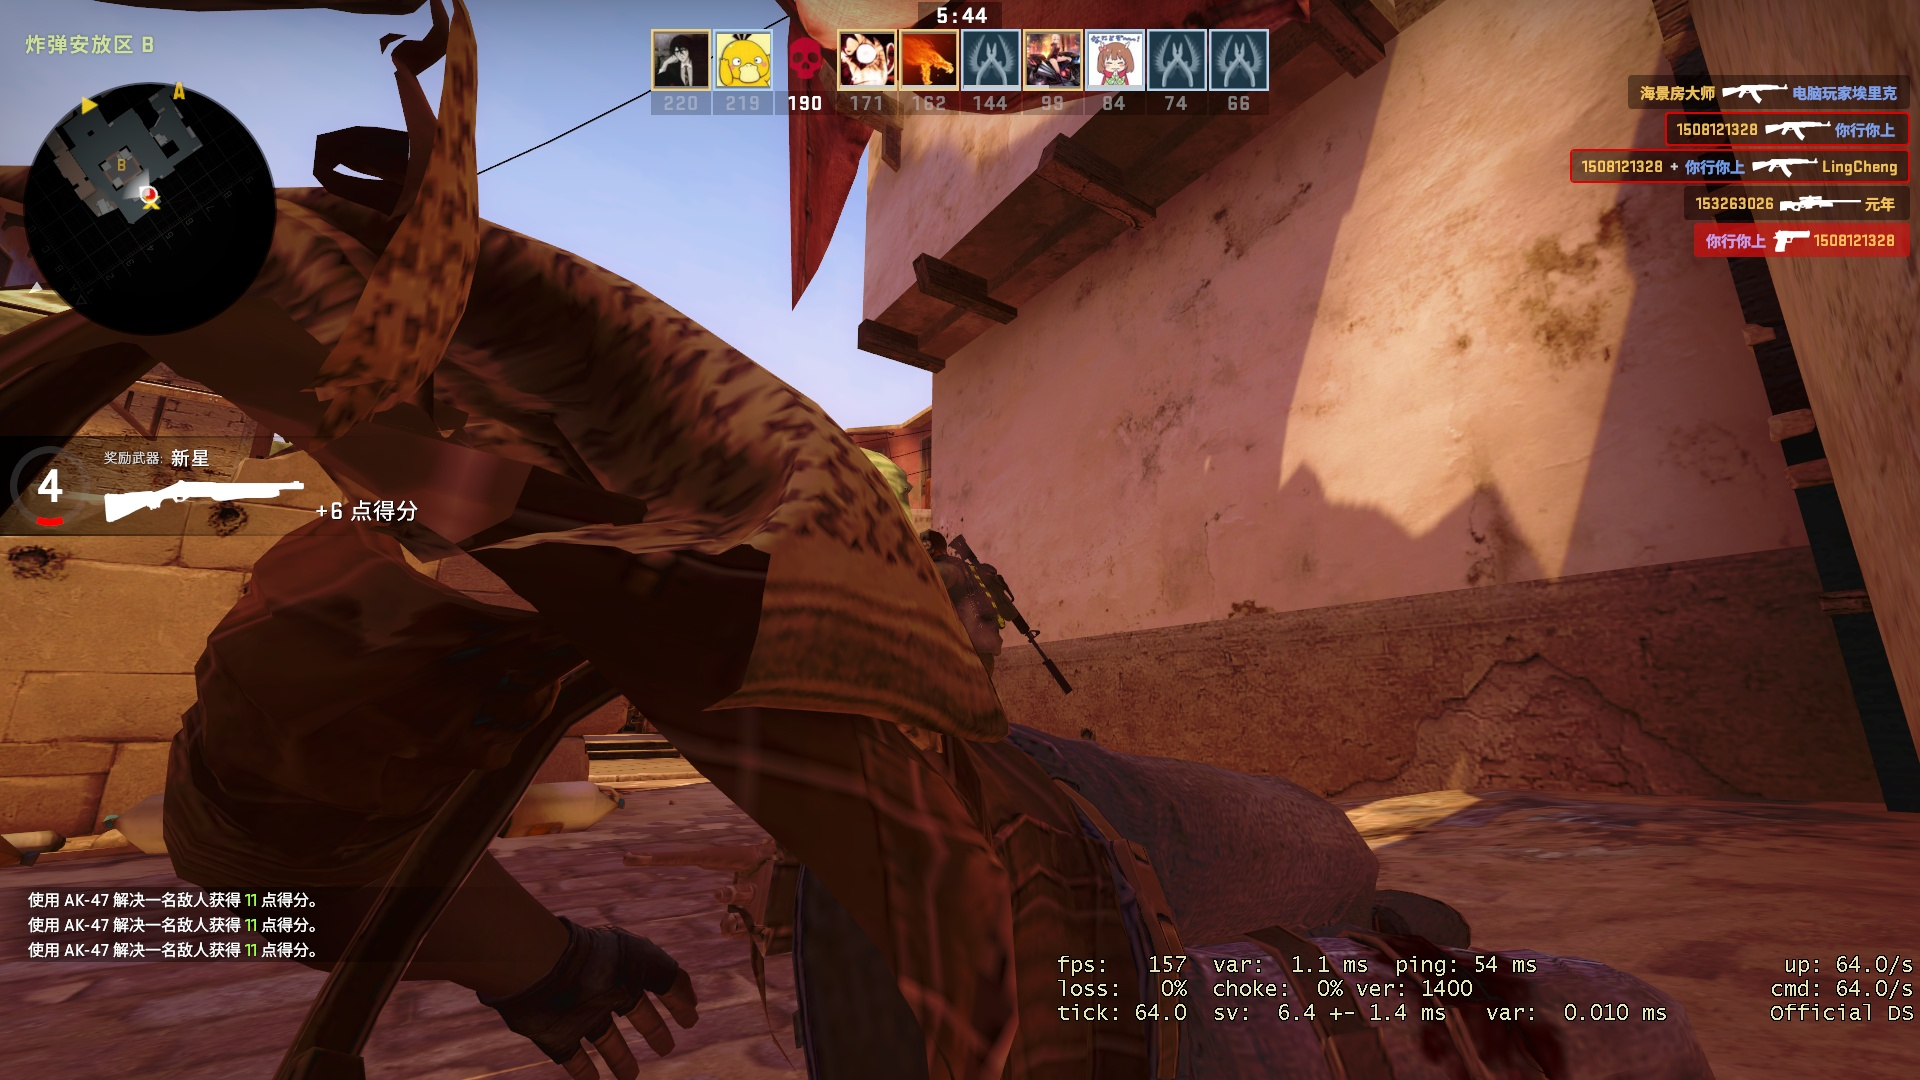body: (913, 529, 1006, 698)
head: (917, 528, 950, 559)
